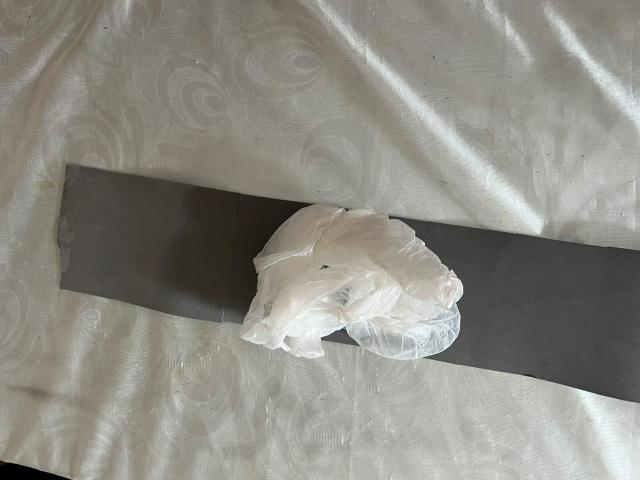LDPE: (224, 194, 484, 379)
